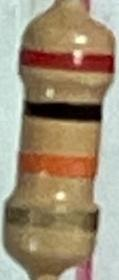Black: (24, 99, 102, 121)
Orange: (18, 147, 98, 179)
Red: (19, 45, 115, 72)
Side-Silver: (5, 204, 100, 233)
